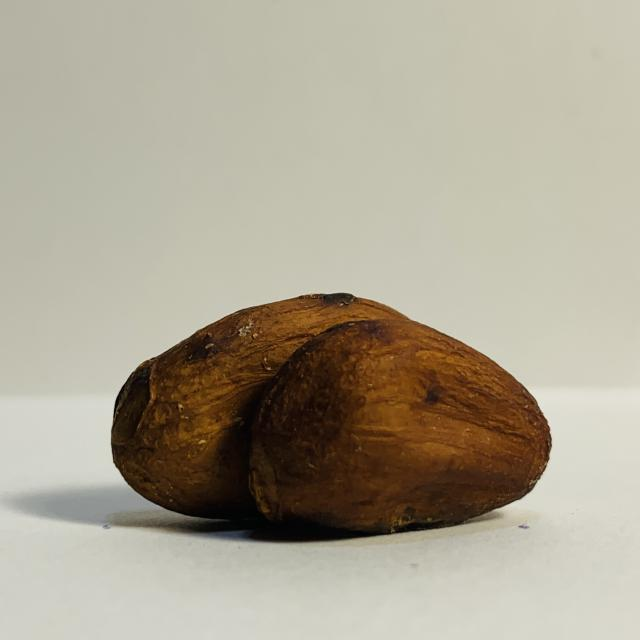Agglomerated_cocoabeans: (42, 269, 609, 581)
